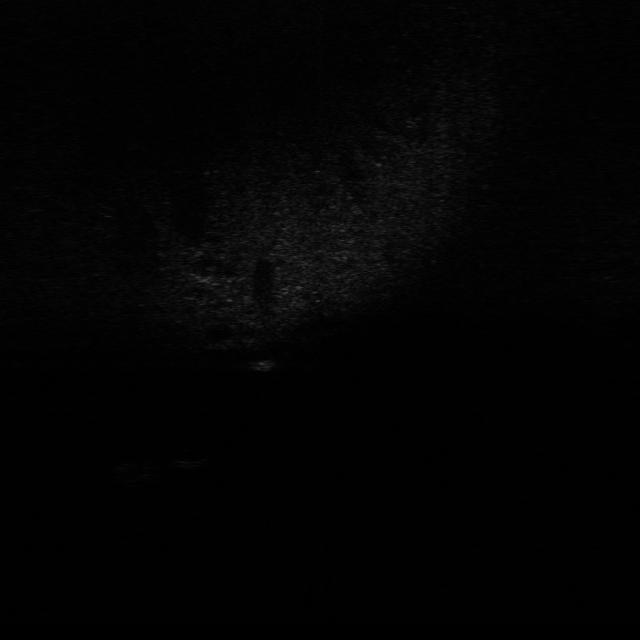ball: (171, 448, 213, 470)
circle cage: (108, 455, 163, 488)
cube: (244, 352, 286, 373)
